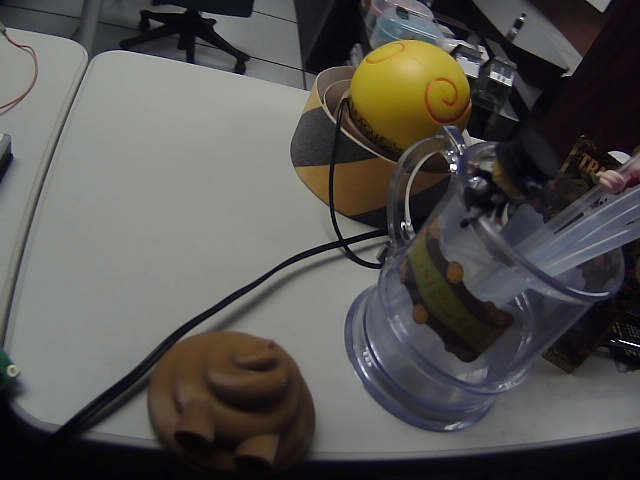shit: (138, 326, 331, 476)
